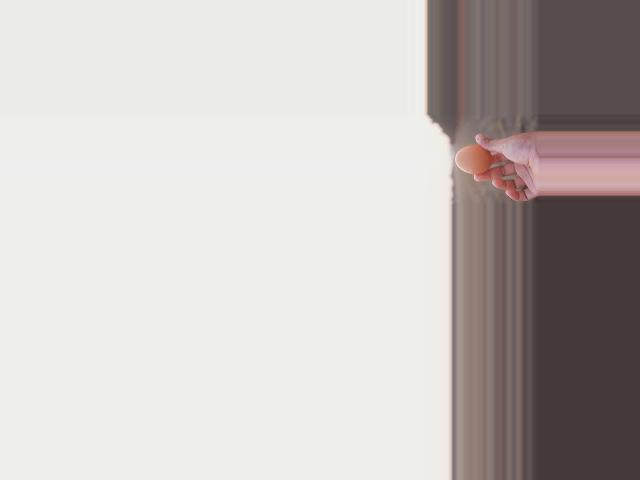egg: (455, 145, 491, 174)
